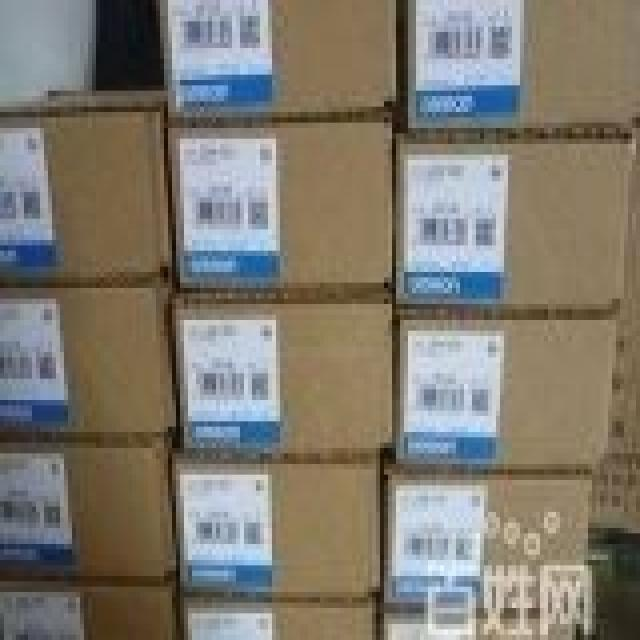box: (396, 133, 636, 309), (168, 107, 392, 293), (168, 288, 396, 453), (396, 304, 616, 469), (0, 91, 172, 283), (400, 0, 640, 133), (172, 448, 380, 597), (384, 464, 592, 603), (0, 277, 180, 437), (156, 0, 396, 117), (0, 432, 180, 587), (0, 576, 176, 640), (184, 597, 380, 640), (384, 603, 576, 640)
